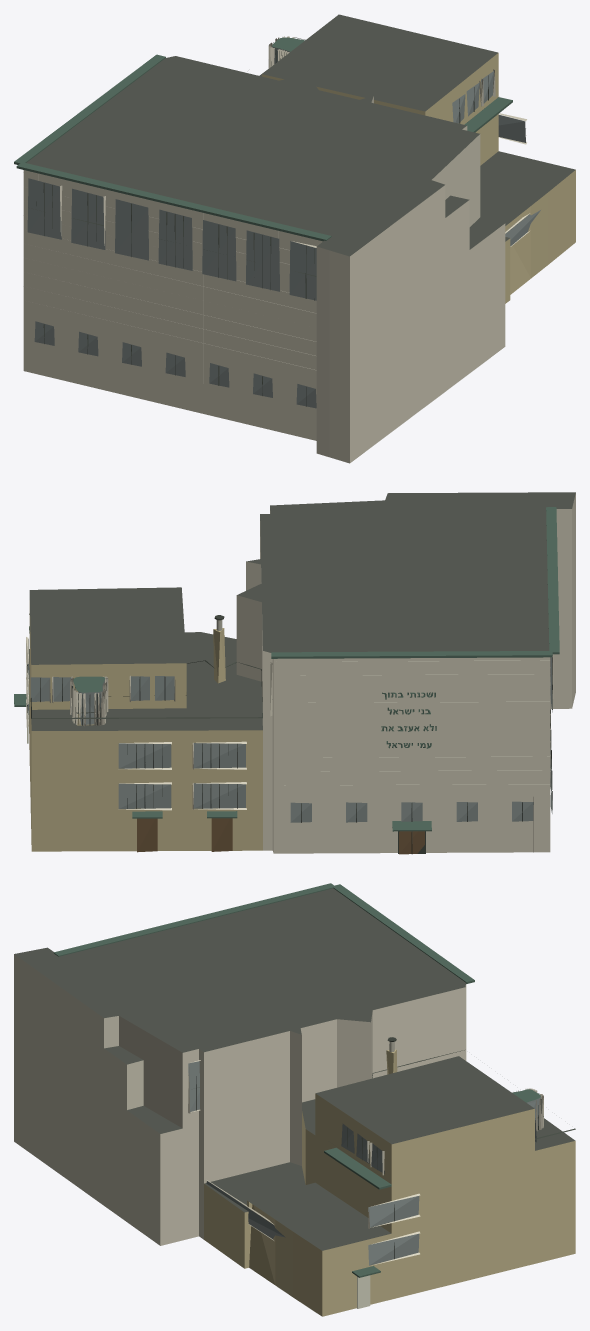
The model's file is lekstraat-synagoge.lod1.glb.
The picture shows the model from 3 angles, top to bottom: view 1: azimuth 30°, elevation 25°; view 2: azimuth 150°, elevation 25°; view 3: azimuth 270°, elevation 25°; orthographic projection. The views are drawn at different scales.
Parts seen in each view (by area): view 1: lekstraat-synagoge; view 2: lekstraat-synagoge; view 3: lekstraat-synagoge.
Boxes of the visible parts, left/top/right/bottom form: lekstraat-synagoge: left=14, top=14, right=575, bottom=463; lekstraat-synagoge: left=14, top=492, right=575, bottom=854; lekstraat-synagoge: left=14, top=883, right=575, bottom=1316.
Bounding box in the file's own units: 41.67 × 14.94 × 40.38.
